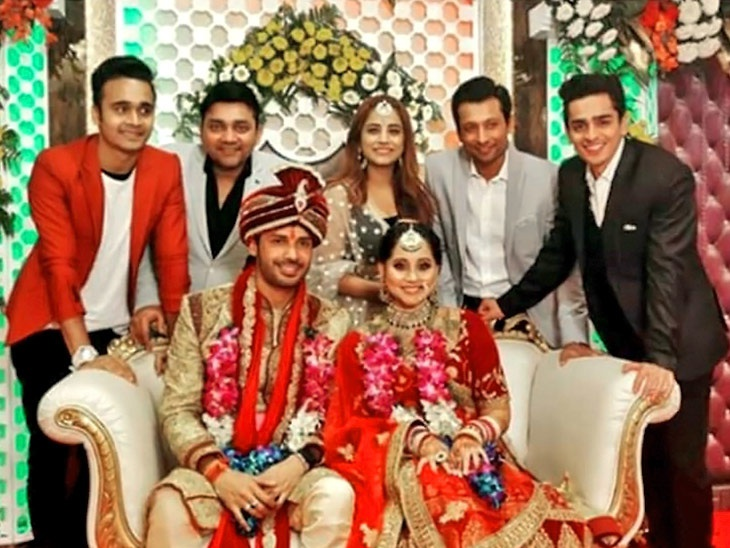bad: (259, 218, 322, 281), (100, 87, 163, 149), (557, 101, 619, 163), (204, 113, 256, 164), (389, 251, 440, 303), (458, 113, 510, 164), (362, 118, 405, 161)
